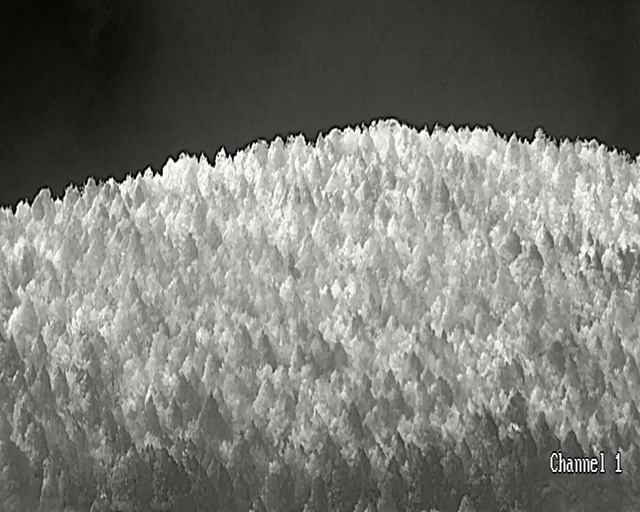uav: (257, 137, 262, 141)
